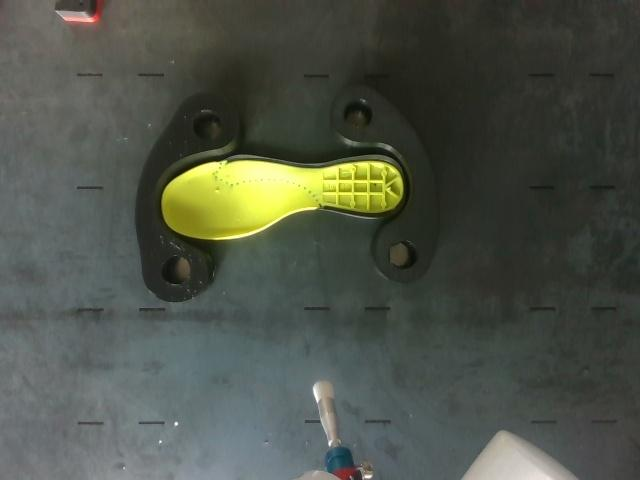shoes: (162, 155, 406, 238)
